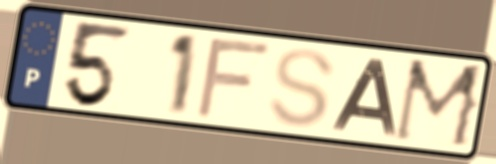1: (166, 32, 202, 117)
5: (59, 17, 136, 109)
A: (328, 55, 401, 140)
F: (191, 37, 276, 121)
M: (389, 56, 489, 153)
S: (265, 45, 339, 131)
